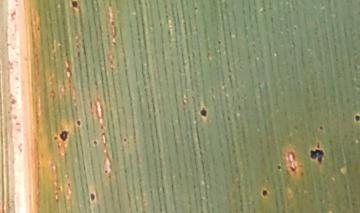tarspot: (308, 144, 329, 165), (196, 105, 212, 120), (66, 1, 84, 11), (259, 187, 271, 201), (58, 130, 70, 142), (88, 191, 98, 203), (352, 113, 360, 125), (75, 119, 83, 127), (91, 139, 99, 147), (102, 168, 110, 176), (275, 164, 283, 172), (122, 136, 128, 146), (318, 125, 325, 133), (53, 135, 59, 143)
